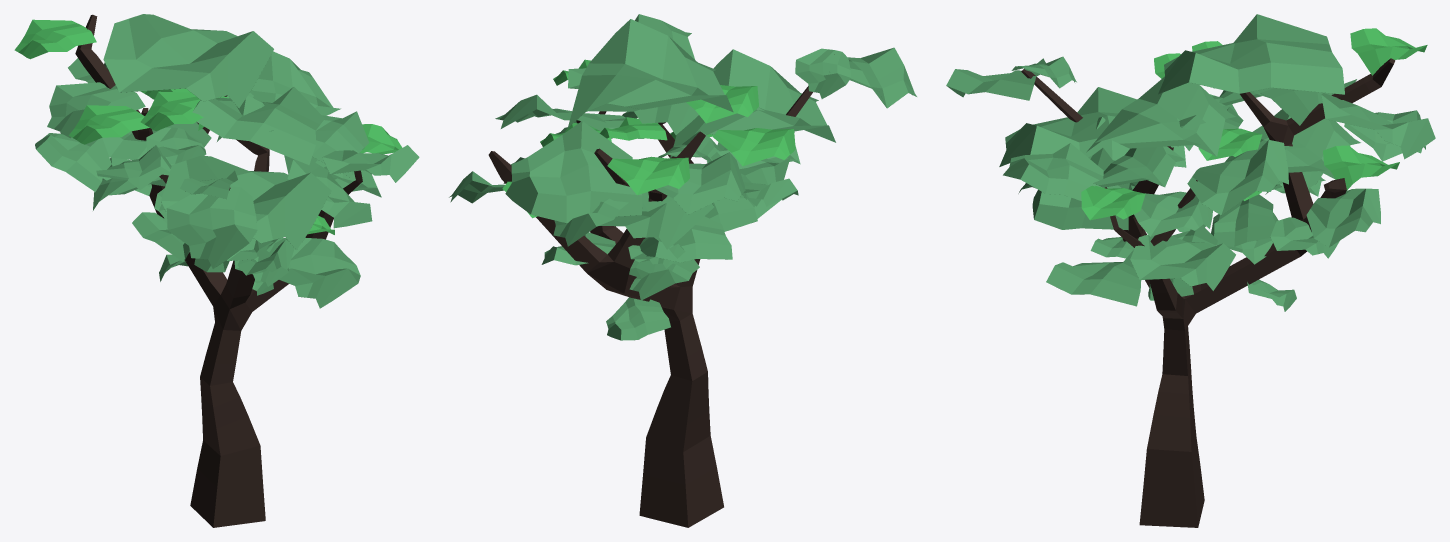
File: Tree.fbx
3 views of the same model, side by side, from view 1: azimuth 30°, elevation 25°; view 2: azimuth 150°, elevation 25°; view 3: azimuth 270°, elevation 25° (orthographic). The views are drawn at different scales.
Parts seen in each view (by area): view 1: Cube, Plane.015, Plane.011, Plane.026, Plane.010, Plane.002, Plane.006, Plane.025, Plane.007, Plane.005, Plane.018, Plane.016 (+12 smaller); view 2: Cube, Plane.015, Plane.004, Plane.011, Plane.006, Plane.030, Plane.010, Plane.001, Plane.018, Plane.005, Plane.042, Plane.020 (+13 smaller); view 3: Cube, Plane.015, Plane.026, Plane.011, Plane.007, Plane.003, Plane.016, Plane.002, Plane.012, Plane.004, Plane.030, Plane.037 (+15 smaller).
Part boxes in pixels (x1,y1,x2,y2): Cube: (75, 14, 362, 527); Plane.015: (103, 14, 273, 108); Plane.011: (161, 155, 331, 249); Plane.026: (192, 87, 324, 164); Plane.010: (166, 185, 257, 268); Plane.002: (279, 237, 360, 308); Plane.006: (47, 82, 145, 137); Plane.025: (35, 133, 111, 191); Plane.007: (252, 51, 340, 115); Plane.005: (14, 19, 96, 59); Plane.018: (69, 105, 149, 144); Plane.016: (322, 145, 419, 182); Cube: (488, 54, 834, 527); Plane.015: (568, 19, 733, 127); Plane.004: (505, 121, 642, 223); Plane.011: (670, 49, 835, 157); Plane.006: (655, 152, 746, 214); Plane.030: (599, 192, 714, 249); Plane.010: (830, 47, 916, 108); Plane.001: (639, 216, 732, 262); Plane.018: (713, 128, 795, 166); Plane.005: (607, 156, 689, 195); Plane.042: (795, 48, 850, 98); Plane.020: (606, 297, 670, 340); Cube: (1021, 58, 1395, 527); Plane.015: (1158, 14, 1344, 94); Plane.026: (1086, 76, 1235, 156); Plane.011: (999, 87, 1186, 167); Plane.007: (1187, 140, 1288, 215); Plane.003: (1130, 234, 1235, 290); Plane.016: (1003, 143, 1104, 201); Plane.002: (1046, 249, 1141, 306); Plane.012: (1306, 188, 1380, 247); Plane.004: (1321, 93, 1435, 159); Plane.030: (1225, 109, 1360, 179); Plane.037: (1032, 148, 1129, 230).
Bounding box in the file's own units: 554 × 807 × 746.
